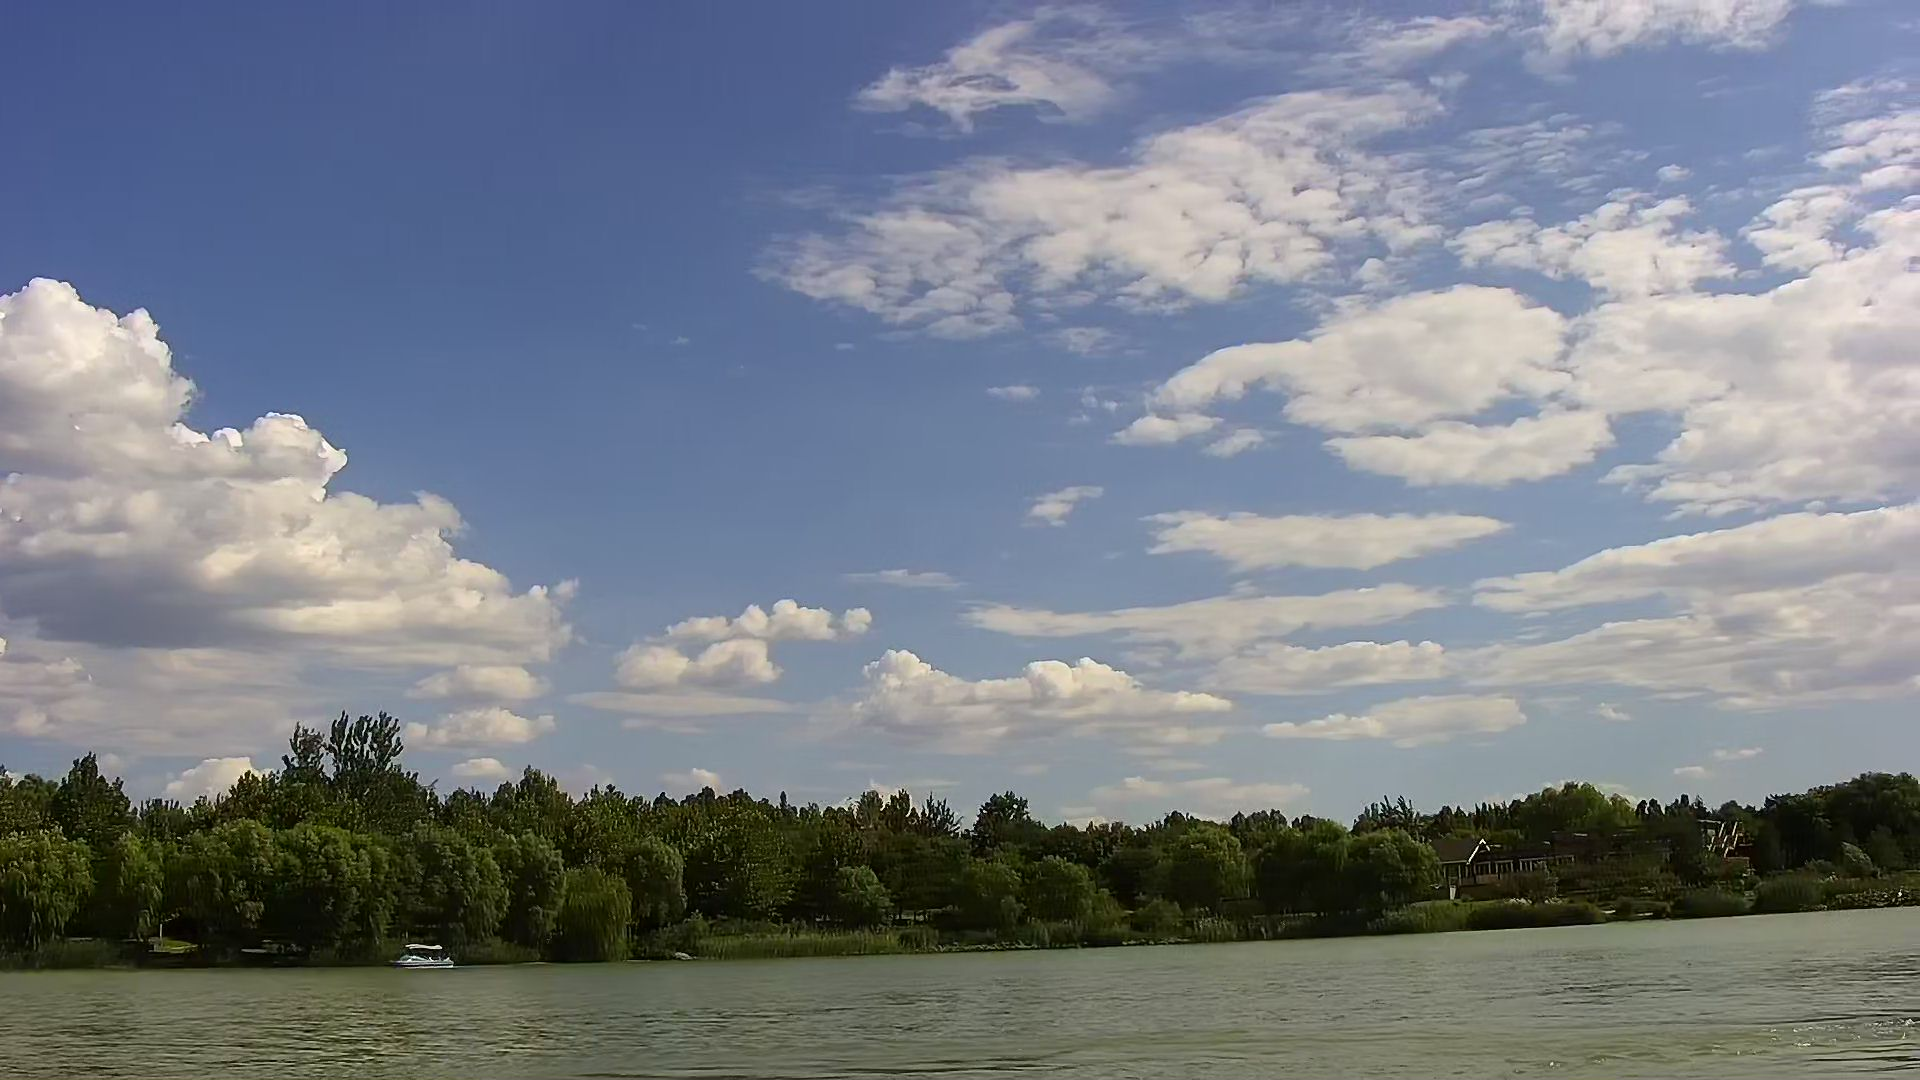boat: (386, 939, 455, 973)
